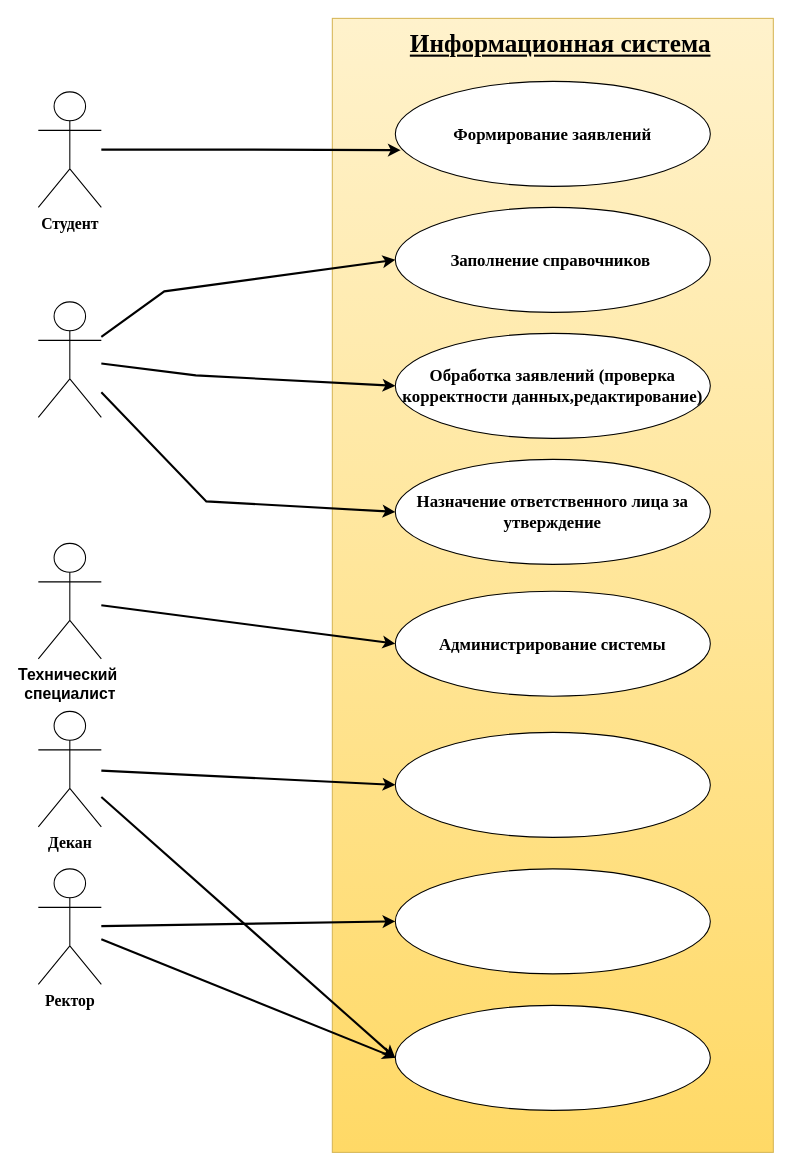
Some shapes in this 792 by 1171 pixel diagram are drawn without their labels. Here are the shapes that lost their labels. From the top down, the centre of each, then its label:
pixel 69 359: Менеджер ЦП
pixel 552 784: Принятие решения по заявлениям на уровне факультета
pixel 552 921: Принятие решения по заявлениям на уровне всего университета
pixel 552 1057: Составление отчетной документации
